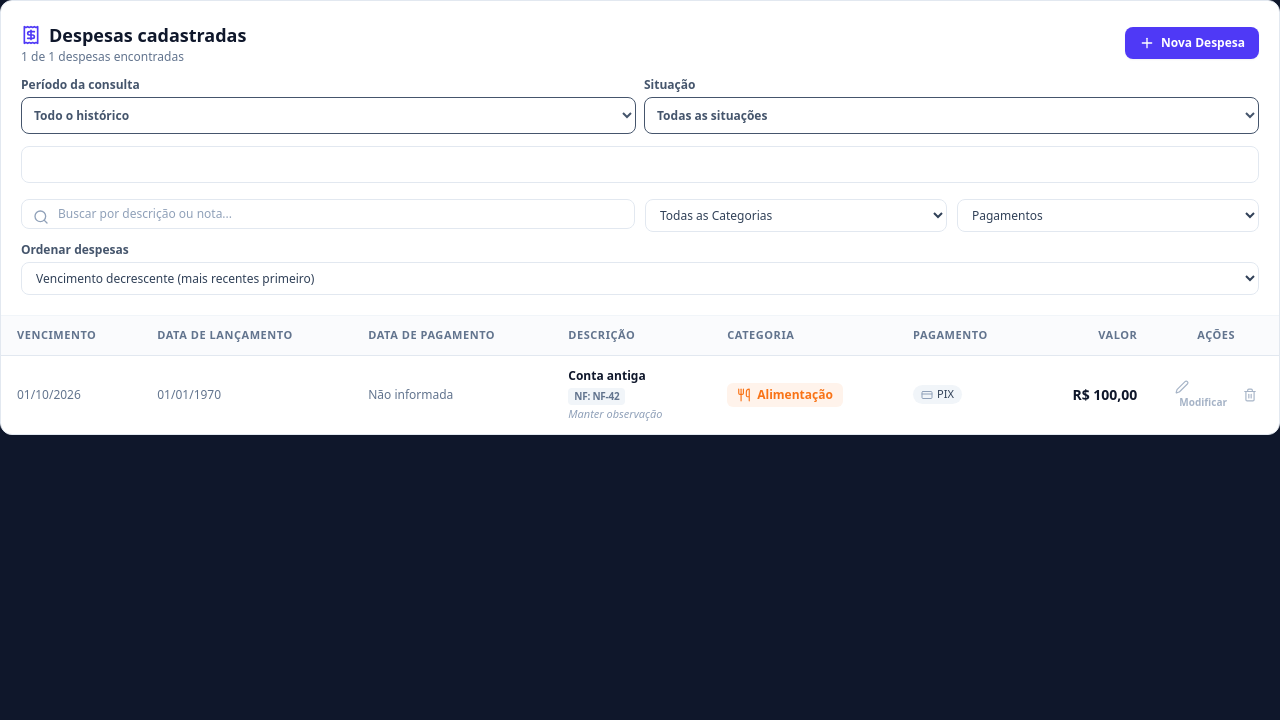
Test: Continuar opens step two without saving and uses a separate submit button
Click the button titled "Editar Despesa": (1201, 395) top-left (1169, 374), bottom-right (1233, 416)
(page scrolled)
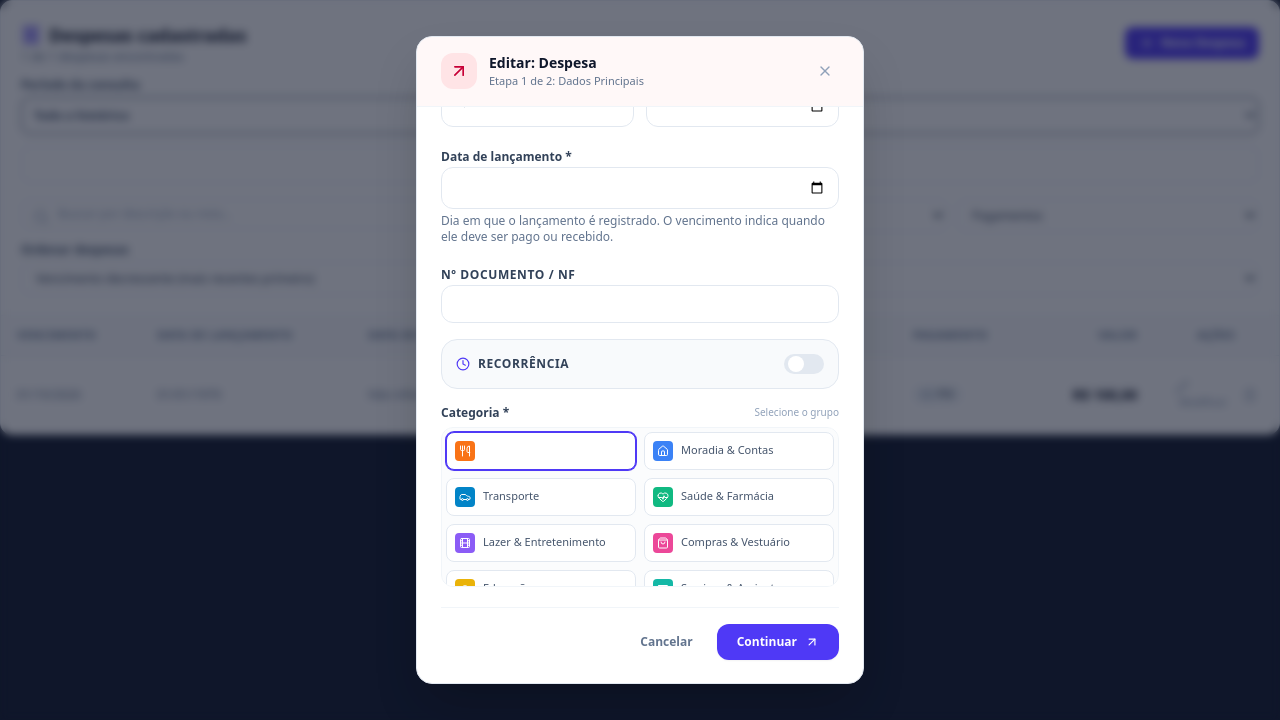
Click the button "Continuar": (778, 642) top-left (717, 624), bottom-right (839, 660)
(page scrolled)
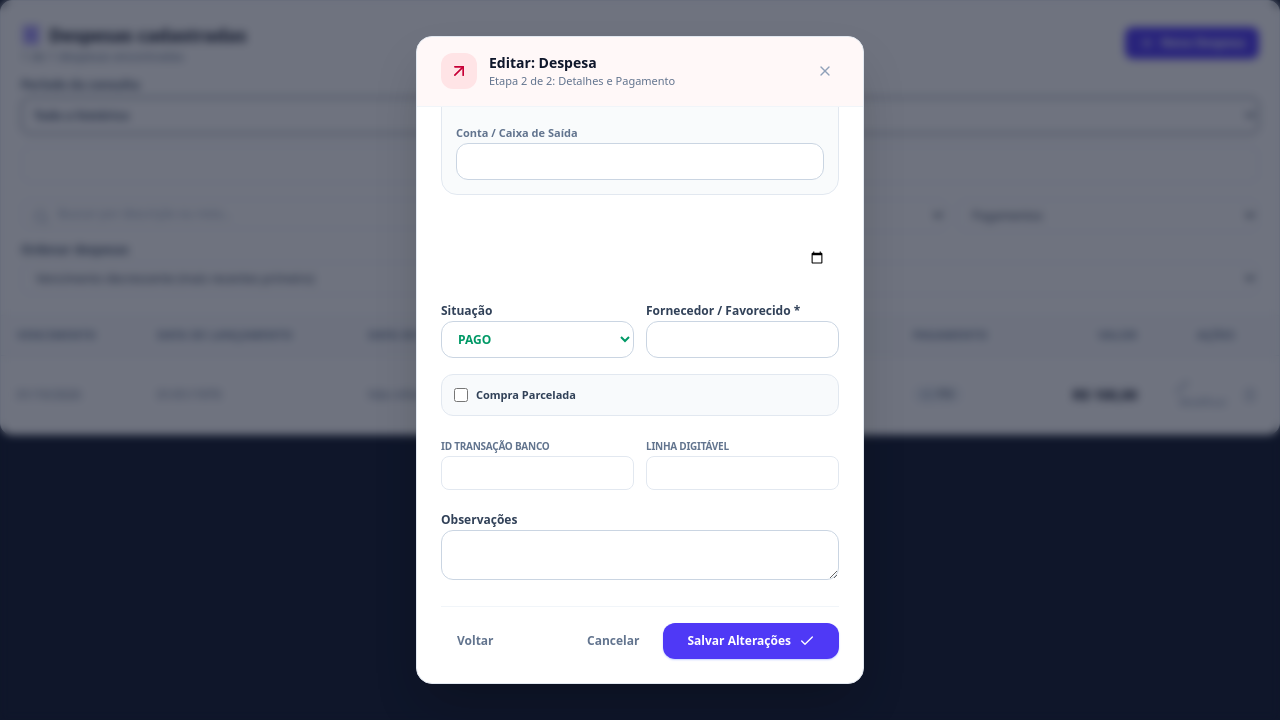
Expected: the text "Etapa 2 de 2: Detalhes e Pagamento" is shown, top-left (489, 73), bottom-right (675, 90)
Click the button "Voltar": (475, 641) top-left (441, 625), bottom-right (510, 657)
(page scrolled)
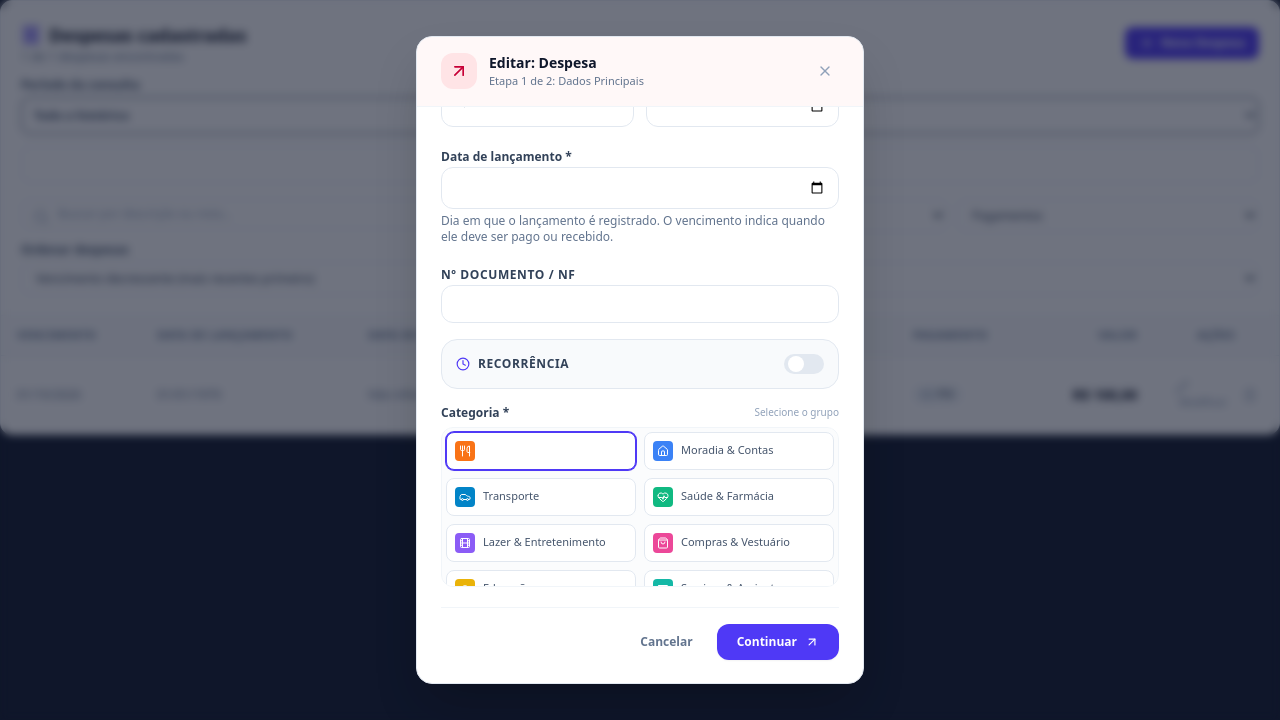
Click the button "Continuar": (778, 642) top-left (717, 624), bottom-right (839, 660)
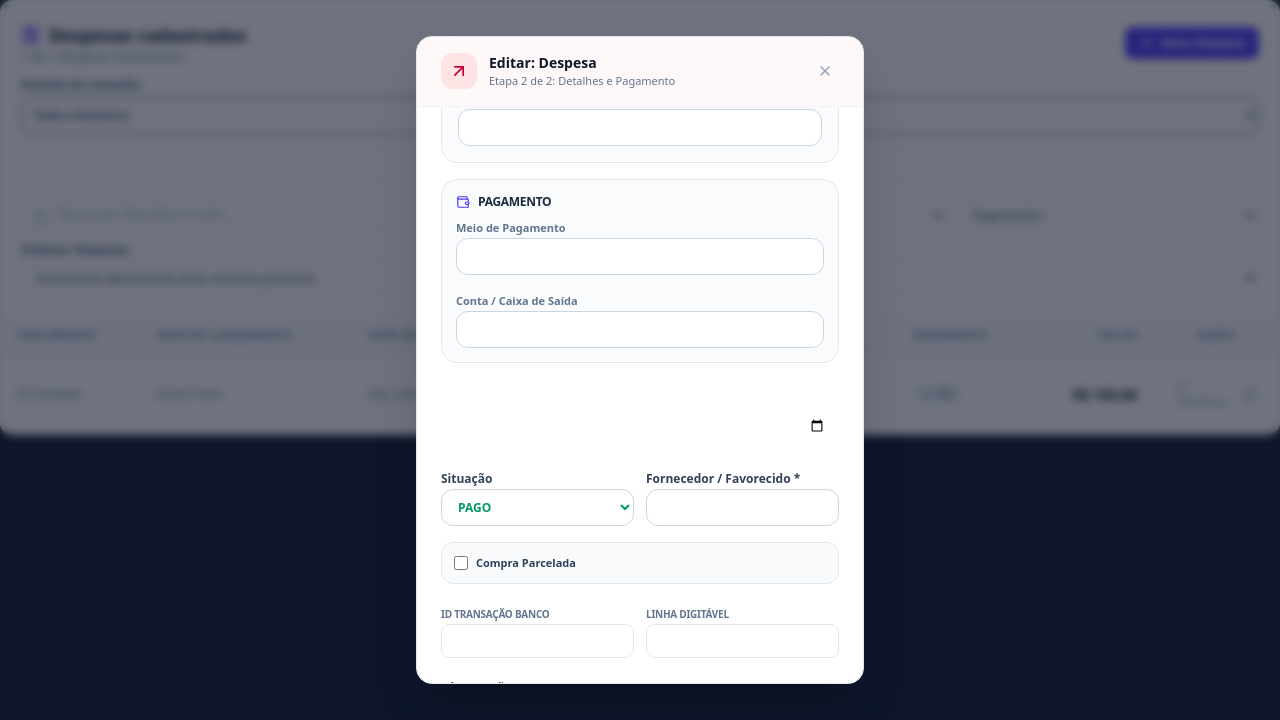
Expected: the text "Etapa 2 de 2: Detalhes e Pagamento" is shown, top-left (489, 73), bottom-right (675, 90)
